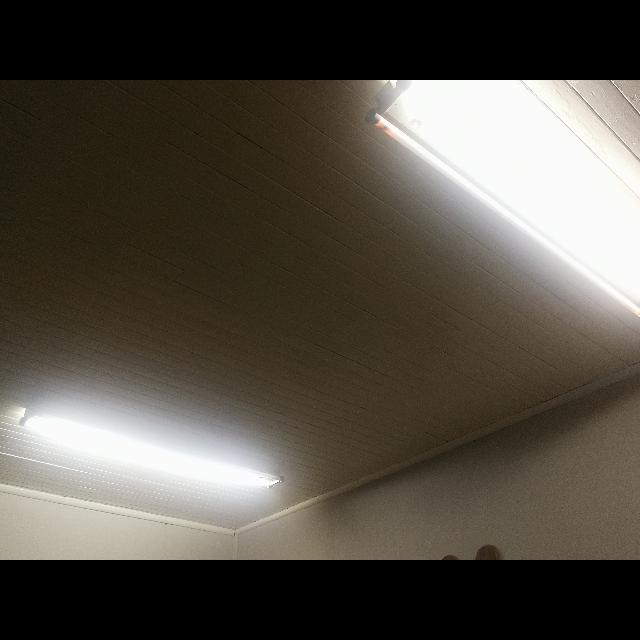Straight-Tube-Fluorescent-Lamp: (346, 81, 640, 339), (12, 398, 296, 504)
